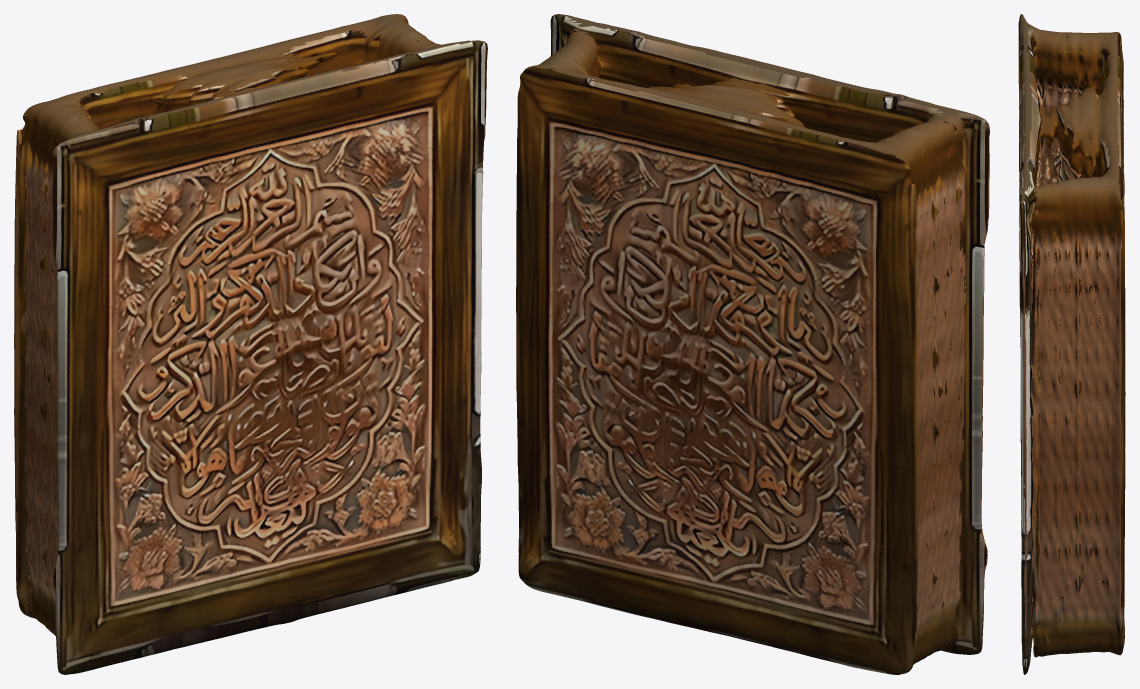
Rendered from kfl-2278.glb.
3 renders of one model, left to right at view 1: azimuth 30°, elevation 25°; view 2: azimuth 150°, elevation 25°; view 3: azimuth 270°, elevation 25°, orthographic. The views are drawn at different scales.
Parts seen in each view (by area): view 1: kfl-2278; view 2: kfl-2278; view 3: kfl-2278.
Boxes of the visible parts, x1=… form: kfl-2278: x1=14, y1=14, x2=487, y2=674; kfl-2278: x1=516, y1=14, x2=989, y2=674; kfl-2278: x1=1018, y1=14, x2=1125, y2=674.
Size of the model in its own units: 0.8376 by 0.9967 by 0.1986.
Materials: 4 (4 with a texture image).
